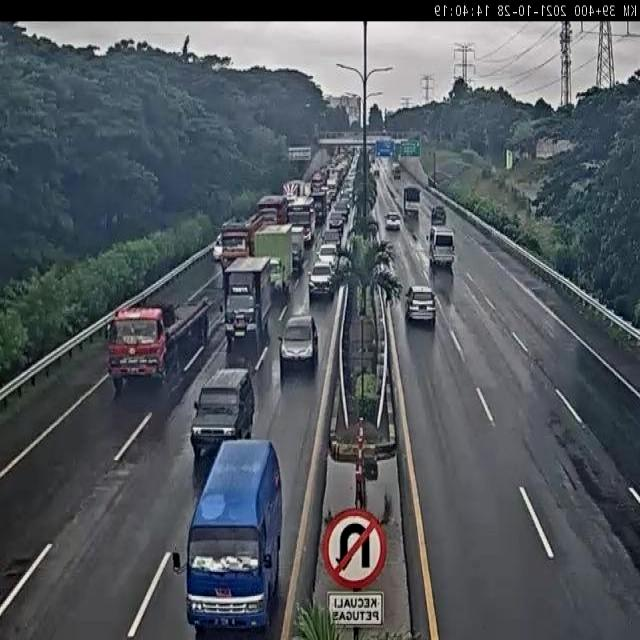Bus: (288, 196, 315, 243)
Car: (186, 364, 260, 452), (277, 315, 319, 378), (405, 288, 439, 332), (308, 268, 333, 300), (316, 244, 338, 268), (321, 227, 342, 248), (383, 210, 403, 232), (430, 204, 448, 224), (327, 211, 344, 232)
Truck: (168, 435, 284, 631), (106, 291, 211, 395), (220, 257, 272, 346), (256, 218, 294, 287), (219, 218, 258, 278), (424, 225, 457, 268), (402, 186, 422, 218)
